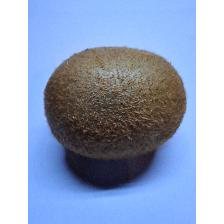Kiwi: (44, 41, 190, 164)
